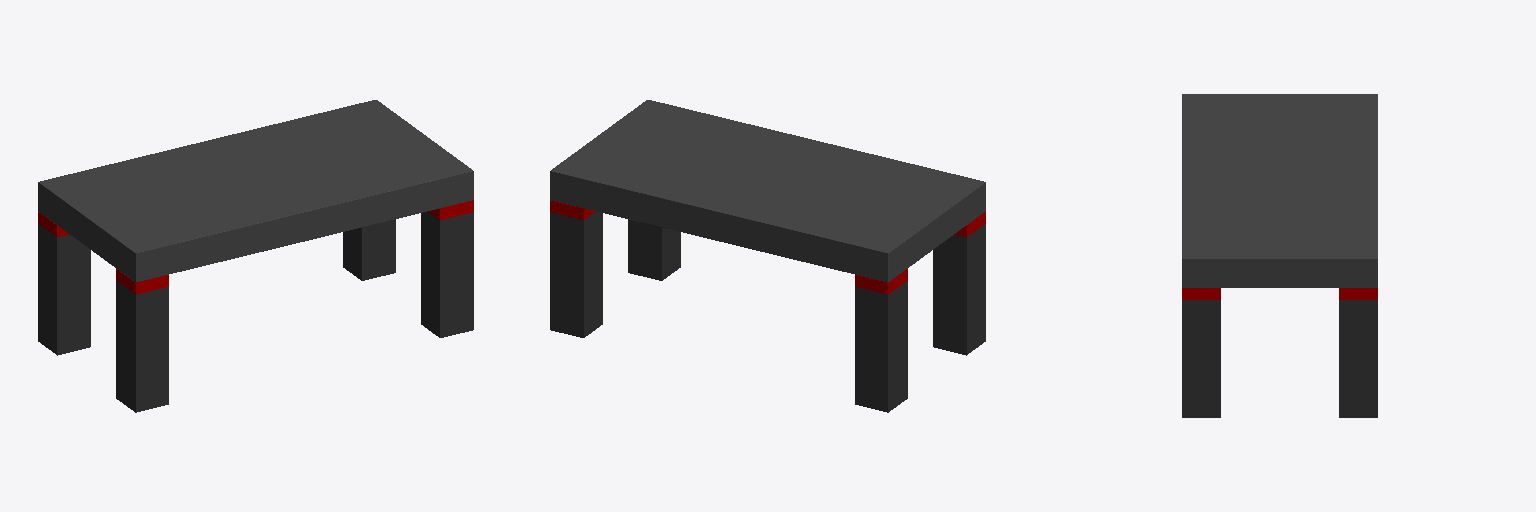
File: Журнальный стол.obj
The picture shows the model from 3 angles: view 1: azimuth 30°, elevation 25°; view 2: azimuth 150°, elevation 25°; view 3: azimuth 270°, elevation 25°; orthographic projection.
Parts seen in each view (by area): view 1: ChamferBox06_3, Box49_9, Box48_8, Box42_1, Box45_5, Box46_6; view 2: ChamferBox06_3, Box42_1, Box45_5, Box49_9, Box48_8, Box43_2; view 3: ChamferBox06_3, Box45_5, Box48_8.
Part boxes in pixels (left/top/right/bottom): ChamferBox06_3: left=38, top=100, right=473, bottom=282; Box49_9: left=116, top=281, right=168, bottom=412; Box48_8: left=421, top=211, right=473, bottom=337; Box42_1: left=38, top=224, right=90, bottom=355; Box45_5: left=343, top=219, right=395, bottom=280; Box46_6: left=116, top=269, right=168, bottom=294; ChamferBox06_3: left=550, top=100, right=985, bottom=282; Box42_1: left=855, top=281, right=907, bottom=412; Box45_5: left=550, top=211, right=602, bottom=337; Box49_9: left=933, top=224, right=985, bottom=355; Box48_8: left=628, top=219, right=680, bottom=280; Box43_2: left=855, top=269, right=907, bottom=294; ChamferBox06_3: left=1182, top=94, right=1377, bottom=287; Box45_5: left=1339, top=300, right=1377, bottom=417; Box48_8: left=1182, top=300, right=1220, bottom=417.
Bounding box in the file's own units: 60 × 27 × 30.